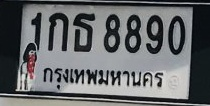num1: (30, 11, 42, 51)
txt01: (46, 11, 70, 52)
txt19: (71, 11, 96, 53)
